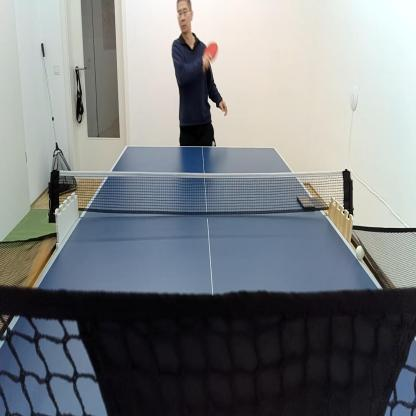Ball: (357, 244, 363, 259)
